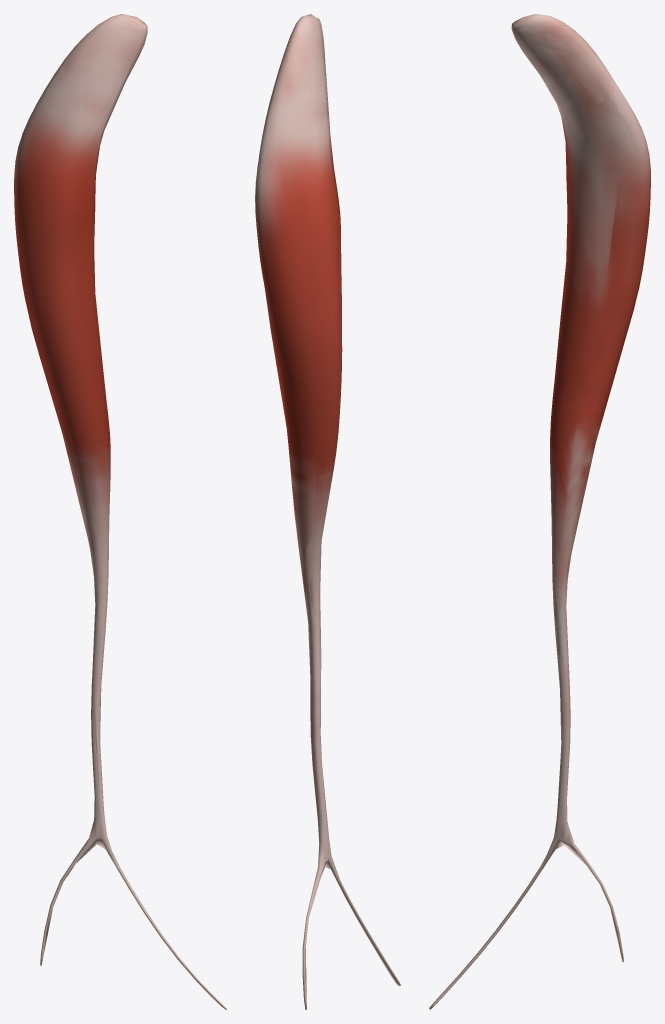
The model's file is R Lateral Digital Extensor.fbx.
3 renders of one model, left to right at view 1: azimuth 90°, elevation 25°; view 2: azimuth 150°, elevation 25°; view 3: azimuth 270°, elevation 25°, orthographic. The views are drawn at different scales.
Visible parts, largest first — view 1: R Lateral Digital Extensor, R Lateral Digital Extensor low; view 2: R Lateral Digital Extensor, R Lateral Digital Extensor low; view 3: R Lateral Digital Extensor low, R Lateral Digital Extensor.
Boxes of the visible parts, left/top/right/bottom form: R Lateral Digital Extensor: left=14, top=14, right=226, bottom=1009; R Lateral Digital Extensor low: left=14, top=14, right=146, bottom=952; R Lateral Digital Extensor: left=255, top=14, right=400, bottom=1009; R Lateral Digital Extensor low: left=255, top=15, right=398, bottom=993; R Lateral Digital Extensor low: left=440, top=15, right=648, bottom=998; R Lateral Digital Extensor: left=429, top=14, right=650, bottom=1009.
Size of the model in its own units: 1.53 by 21.61 by 4.28.
